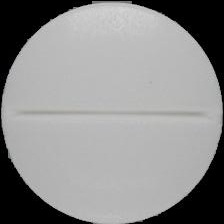43063-386: (0, 0, 224, 224)
